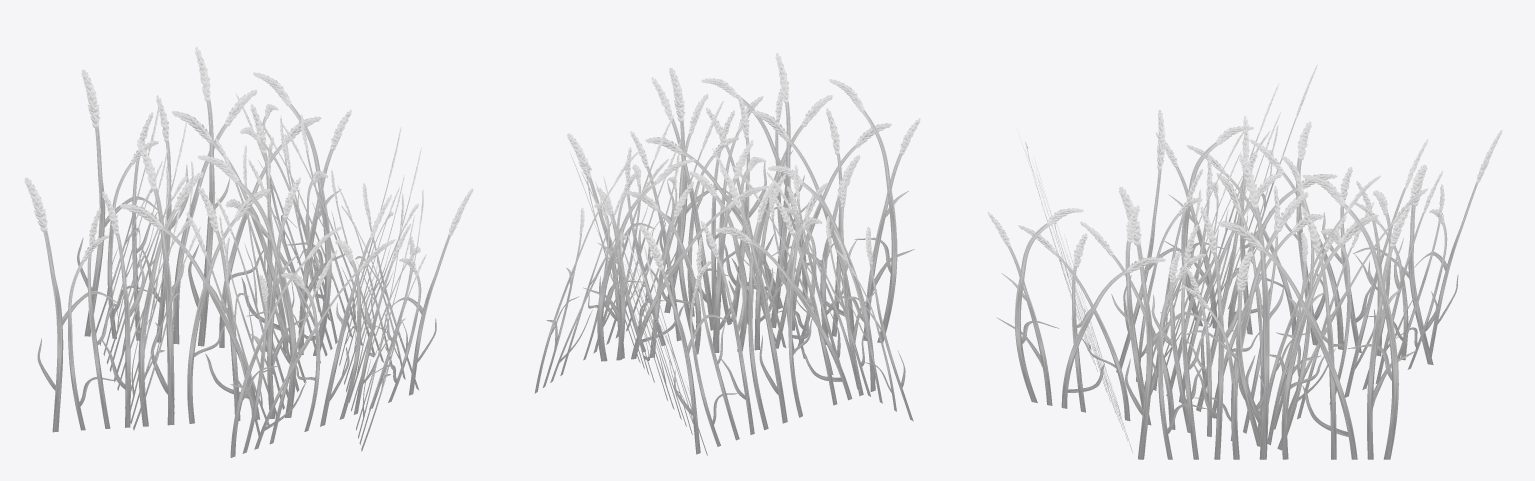
The model's file is WheatPlant02.fbx.
3 renders of one model, left to right at view 1: azimuth 30°, elevation 25°; view 2: azimuth 150°, elevation 25°; view 3: azimuth 270°, elevation 25°, orthographic. The views are drawn at different scales.
Visible parts, largest first — view 1: WheatPlant02_LOD0; view 2: WheatPlant02_LOD0; view 3: WheatPlant02_LOD0.
Boxes of the visible parts, x1,y1,x2,y2 form: WheatPlant02_LOD0: (24,47,473,457); WheatPlant02_LOD0: (534,53,920,455); WheatPlant02_LOD0: (987,65,1502,459).
Size of what is drawn, in the model's own units: 81.4 by 57.03 by 95.56.
